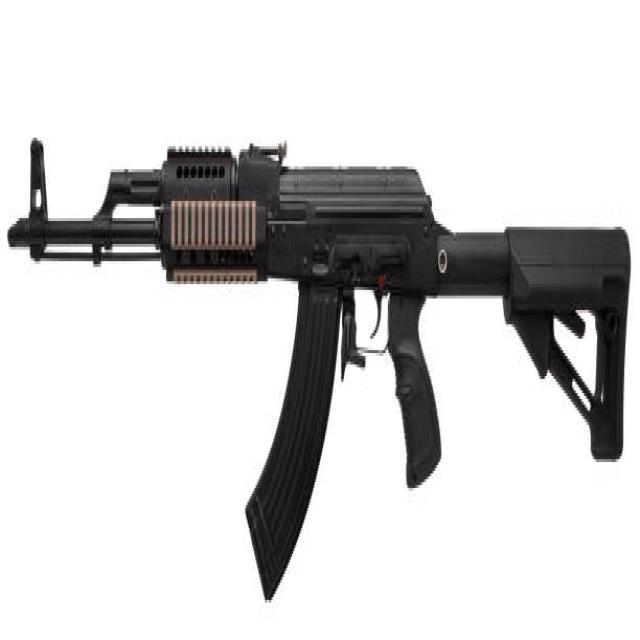rifle: (8, 117, 630, 619)
